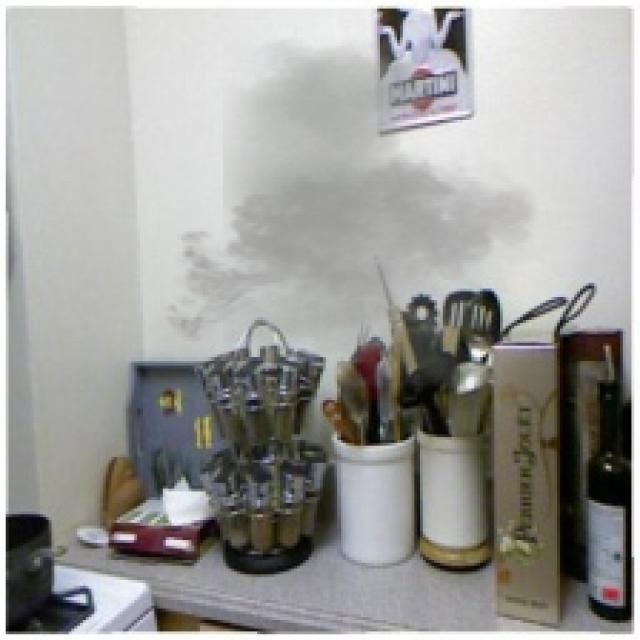Smoke: (152, 37, 554, 389)
